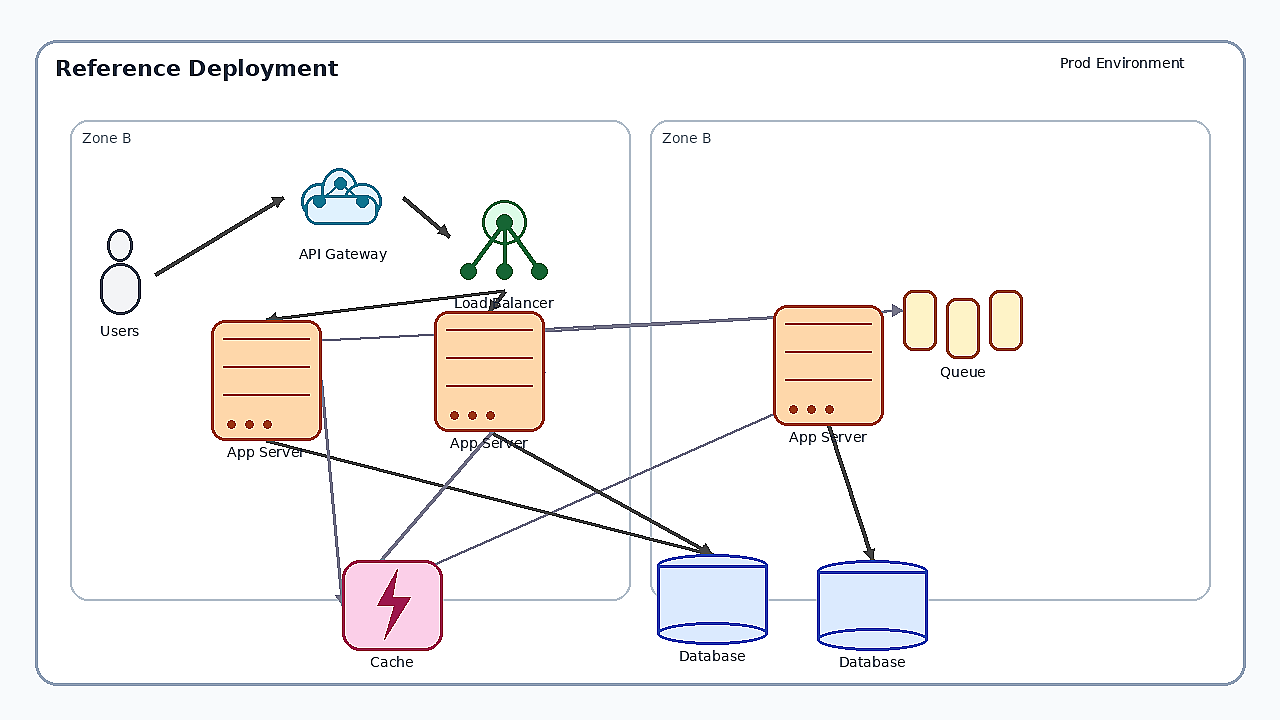API Gateway: (283, 152, 403, 242)
Application Server: (773, 305, 883, 425), (211, 320, 321, 440), (434, 311, 544, 431)
Cache: (342, 560, 442, 650)
Database: (657, 554, 767, 644), (817, 560, 927, 650)
Load Balancer: (449, 181, 559, 291)
Message Queue: (903, 290, 1023, 360)
User: (85, 229, 155, 319)
